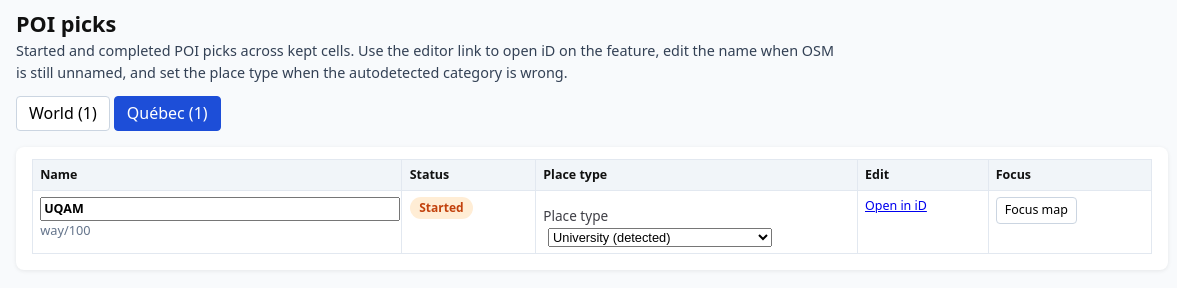
Test: <PoiListPage /> › switches to world scope
The image size is (1177, 288).
Click the button "World (1)" at (63, 113), box left=16, top=96, right=110, bottom=131
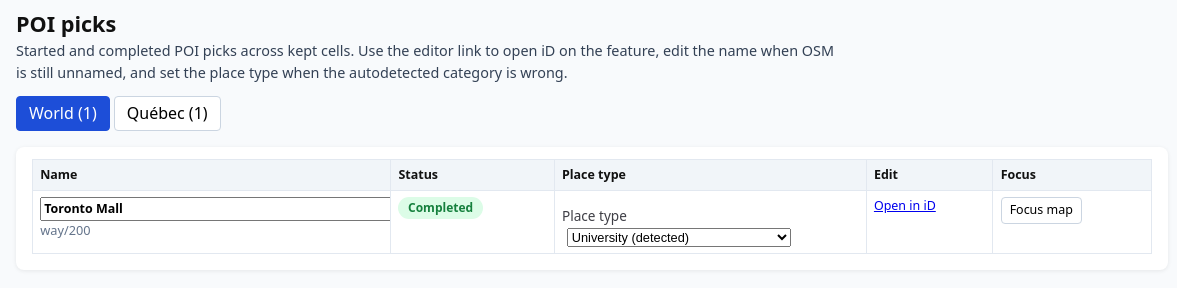
Expected: the field showing "UQAM" is not shown
Now the field showing "Toronto Mall" is shown, box left=40, top=197, right=391, bottom=221
